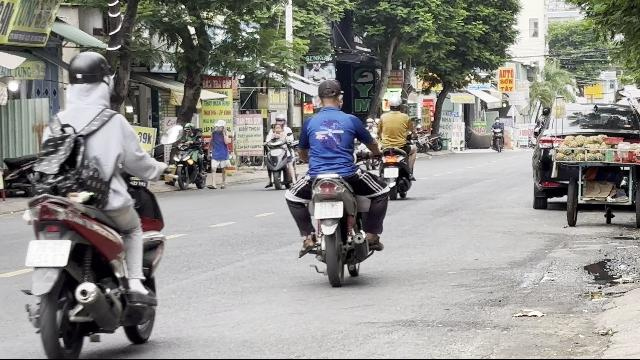helmet: (65, 50, 112, 104)
licenseplate: (26, 240, 70, 266), (314, 202, 342, 219)
motorcyclist: (14, 48, 172, 358), (284, 77, 390, 283)
nohelmet: (316, 79, 344, 109)
